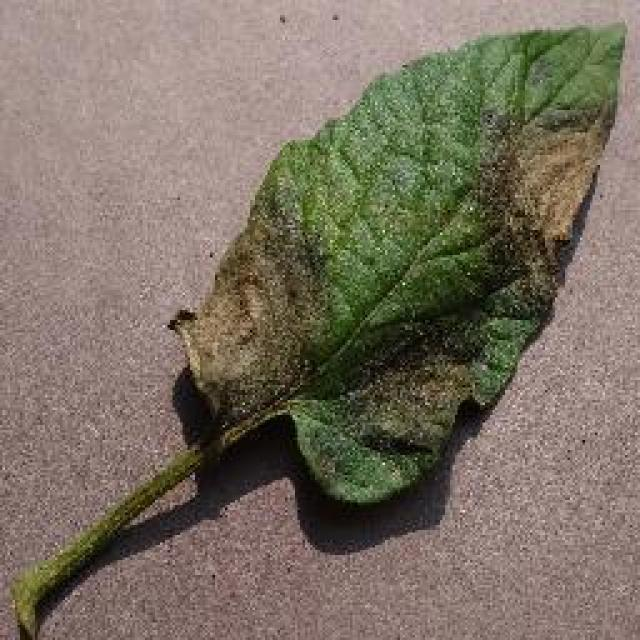Tomato___Late_blight: (7, 23, 634, 638)
